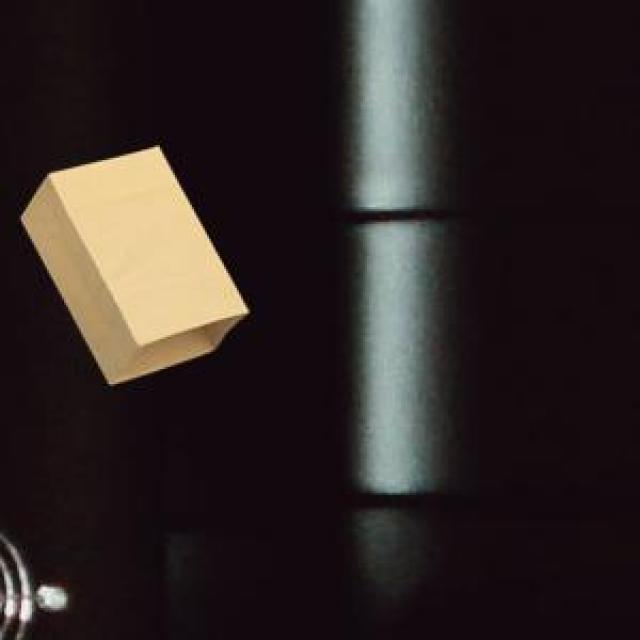paper: (17, 143, 243, 380)
